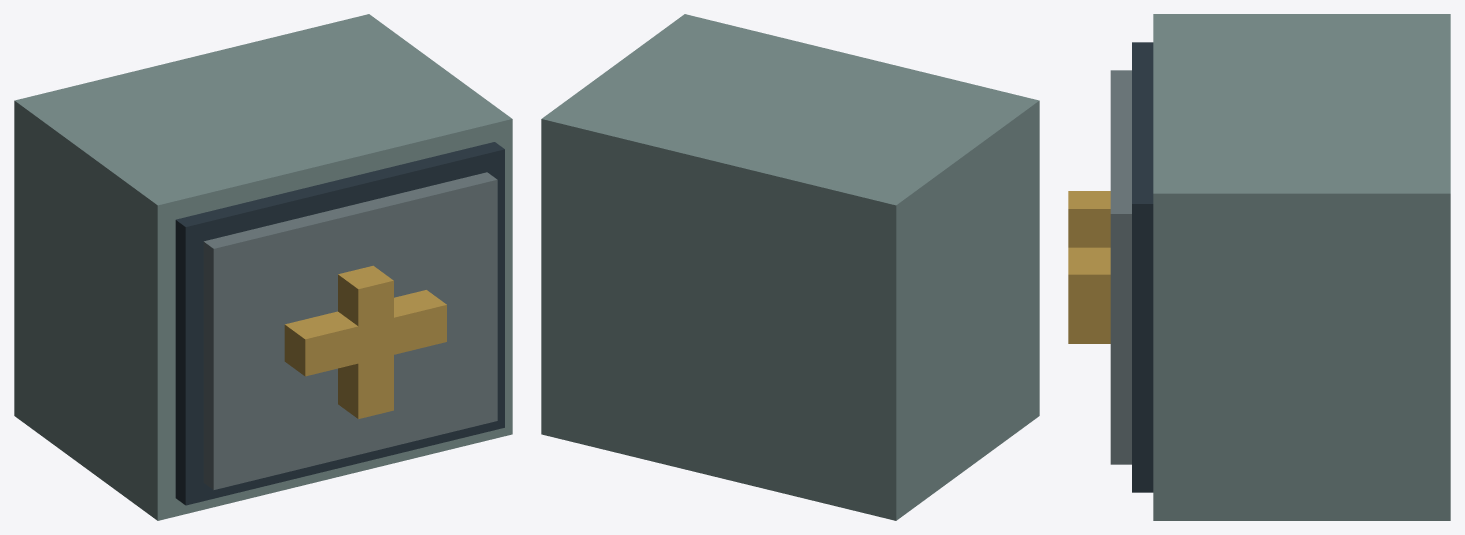
The model's file is robotics-16.glb.
3 views of the same model, side by side, from view 1: azimuth 30°, elevation 25°; view 2: azimuth 150°, elevation 25°; view 3: azimuth 270°, elevation 25° (orthographic). The views are drawn at different scales.
Parts seen in each view (by area): view 1: Tool station; view 2: Tool station; view 3: Tool station.
Boxes of the visible parts, x1=… form: Tool station: x1=14, y1=14, x2=512, y2=520; Tool station: x1=541, y1=14, x2=1039, y2=520; Tool station: x1=1068, y1=14, x2=1450, y2=520.
Size of the model in its own units: 1.6 by 1.36 by 1.44.
